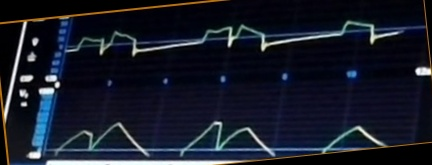Double_Triggering Flow: (72, 18, 401, 70)
Double_Triggering Volume: (55, 106, 388, 158)
